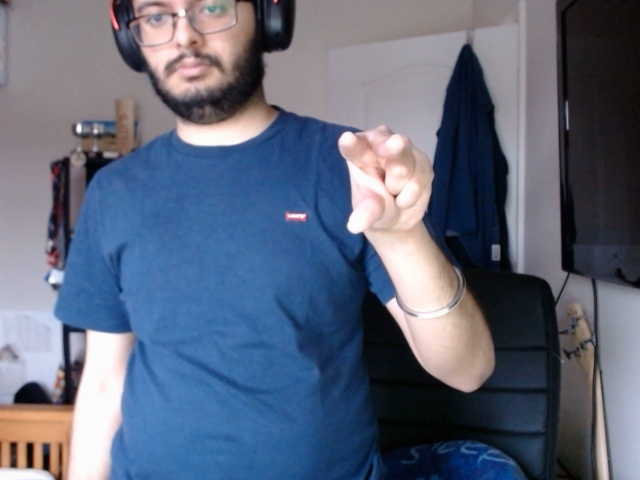No: (329, 119, 453, 248)
